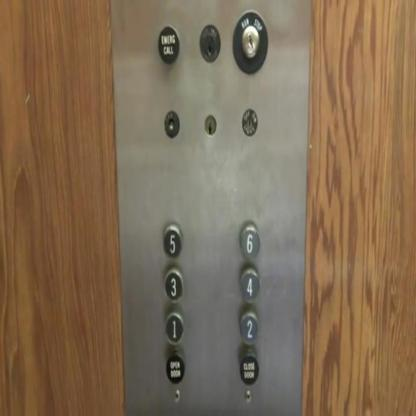1: (163, 308, 184, 346)
2: (238, 308, 260, 346)
3: (162, 264, 184, 301)
4: (238, 264, 260, 305)
5: (162, 221, 182, 259)
6: (238, 218, 260, 260)
keyhole: (230, 7, 269, 78), (198, 21, 220, 66), (240, 104, 258, 140), (163, 107, 180, 142), (202, 110, 218, 138)
text_close: (238, 350, 259, 387)
text_emege call: (156, 22, 180, 67)
text_open hold: (164, 350, 185, 387)
